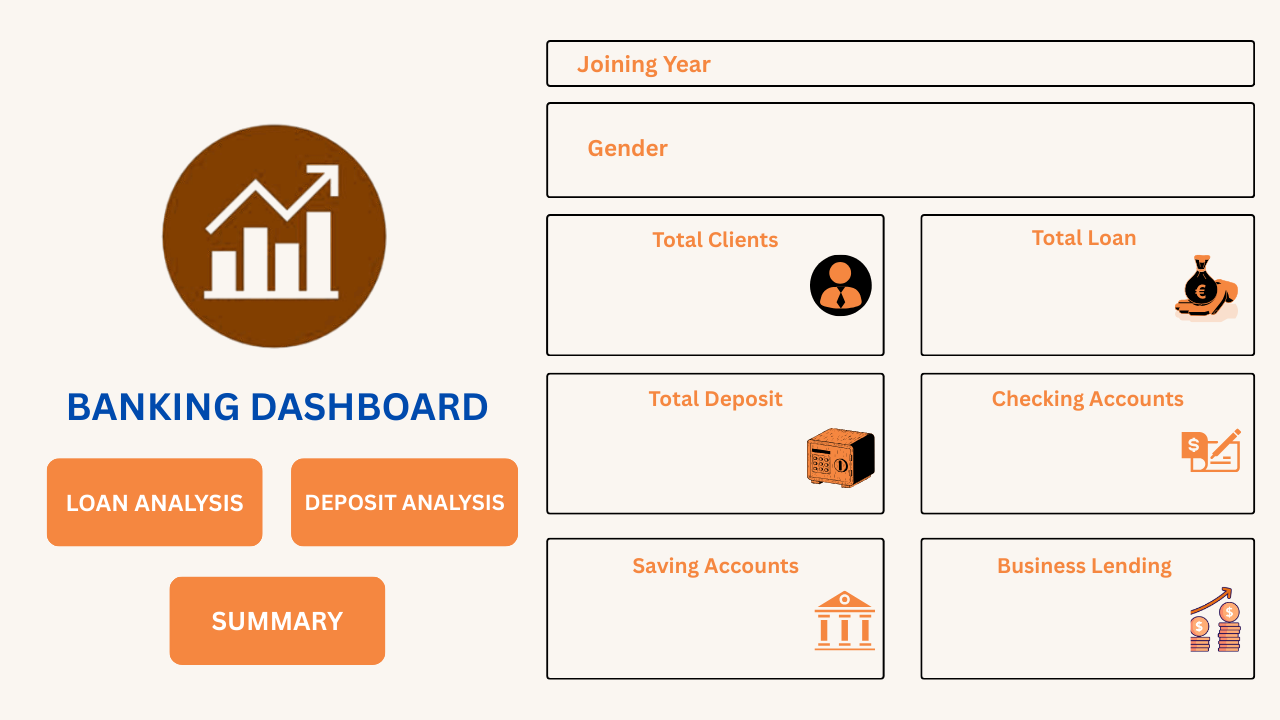

The dashboard page shown, as its layout file describes it:
{"tool":"powerbi","page":{"name":"Home","canvas":[1280,720],"ordinal":0},"visuals":[{"type":"card","fields":{"Values":["Count(Banking.Name)"]},"box":[583.2,248.4,245.6,71.4],"z":0},{"type":"card","fields":{"Values":["Sum(Banking.Bank Loans)"]},"box":[949.6,248.4,245.6,71.4],"z":1000},{"type":"card","fields":{"Values":["Sum(Banking.Bank Deposits)"]},"box":[583.2,411.7,245.6,71.4],"z":2000},{"type":"card","fields":{"Values":["Sum(Banking.Checking Accounts)"]},"box":[948.2,411.7,245.6,71.4],"z":3000},{"type":"card","fields":{"Values":["Sum(Banking.Business Lending)"]},"box":[950.9,579.1,245.6,71.4],"z":4000},{"type":"card","fields":{"Values":["Sum(Banking.Saving Accounts)"]},"box":[583.2,581.8,245.6,71.4],"z":5000},{"type":"slicer","fields":{"Values":["Banking.GenderId"]},"box":[721.8,107,507.7,78.2],"z":6000},{"type":"slicer","fields":{"Values":["Banking.Joined Bank.Variation.Date Hierarchy.Year"]},"box":[706.7,42.5,547.5,41.2],"z":7000},{"type":"actionButton","box":[45.3,458.3,218.2,89.2],"z":8000},{"type":"actionButton","box":[290.9,458.3,227.8,89.2],"z":9000},{"type":"actionButton","box":[171.5,579.1,211.3,83.7],"z":9001}]}

Visuals, with their boxes in screenshot pixels (x1, y1, x2, y2), scaled from the page's 1280x720 canvas onto the 1280x720 screenshot:
card - Count(Banking.Name): bbox(583, 248, 829, 320)
card - Sum(Banking.Bank Loans): bbox(950, 248, 1195, 320)
card - Sum(Banking.Bank Deposits): bbox(583, 412, 829, 483)
card - Sum(Banking.Checking Accounts): bbox(948, 412, 1194, 483)
card - Sum(Banking.Business Lending): bbox(951, 579, 1196, 650)
card - Sum(Banking.Saving Accounts): bbox(583, 582, 829, 653)
slicer - Banking.GenderId: bbox(722, 107, 1230, 185)
slicer - Banking.Joined Bank.Variation.Date Hierarchy.Year: bbox(707, 42, 1254, 84)
actionButton: bbox(45, 458, 264, 548)
actionButton: bbox(291, 458, 519, 548)
actionButton: bbox(172, 579, 383, 663)
